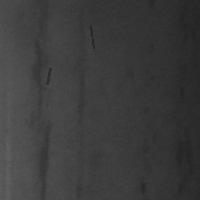inclusion: (23, 3, 56, 199), (176, 100, 199, 199), (68, 46, 90, 131), (88, 24, 95, 50), (45, 66, 52, 86)
